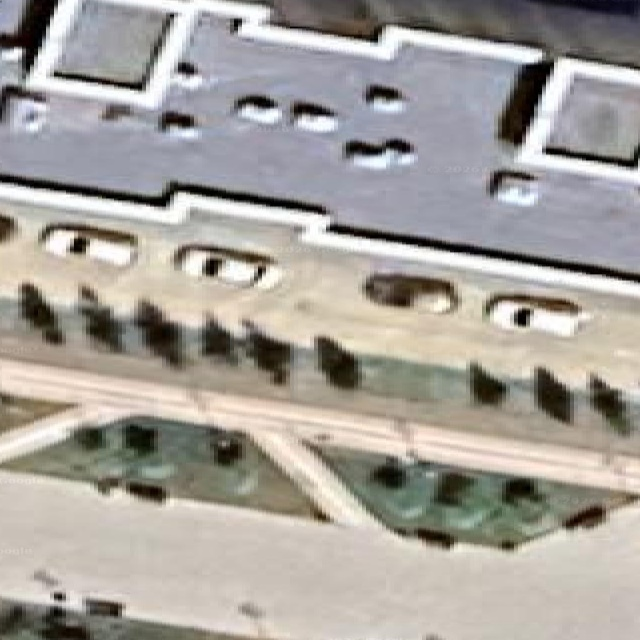car: (176, 244, 280, 288), (484, 296, 590, 335), (40, 226, 135, 266), (364, 272, 456, 312), (344, 139, 415, 168), (4, 89, 48, 132), (529, 0, 639, 16), (488, 172, 536, 206), (344, 140, 392, 169), (232, 96, 281, 123), (292, 101, 336, 131), (160, 111, 199, 139), (364, 84, 404, 110), (172, 60, 203, 88), (384, 139, 415, 164), (0, 40, 24, 60), (0, 213, 15, 241)
